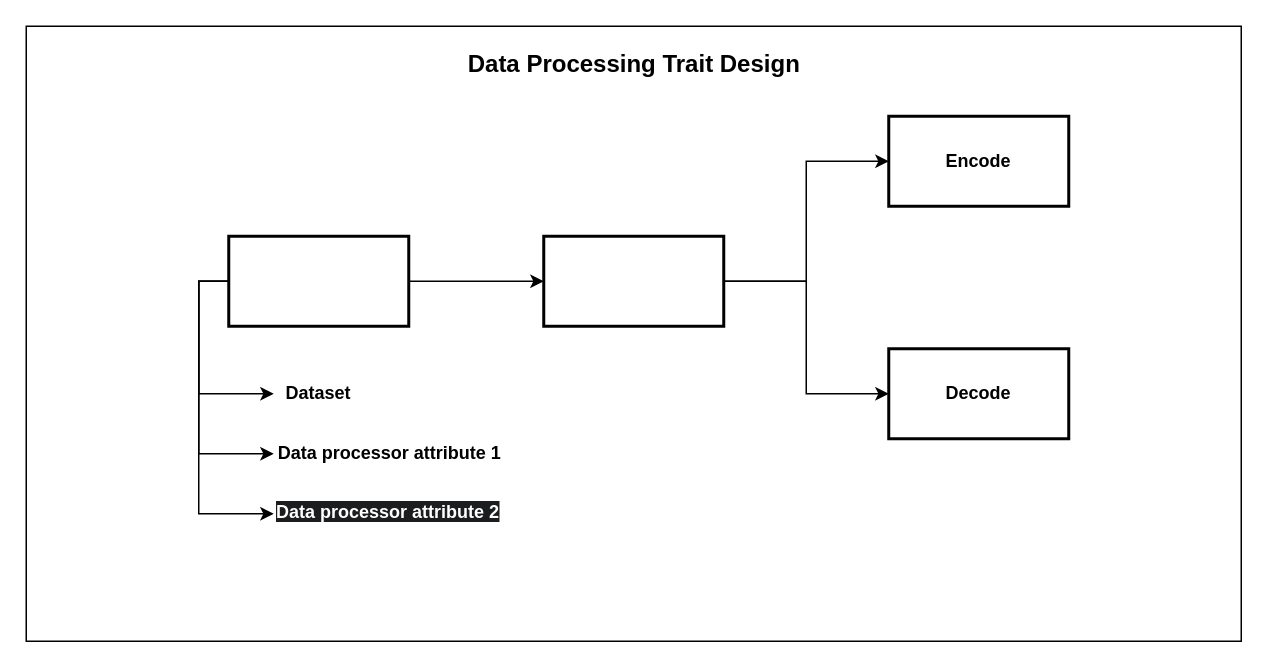
Some shapes in this 1268 by 668 pixel diagram are drawn without their labels. Here are the shapes that lost their labels. From the top down, the centre of each, then its label:
At [318,280]: "Data Processor".
At [633,280]: "Processor Trait".
